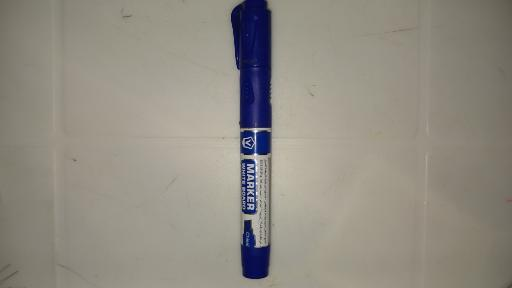Whiteboard marker: (231, 0, 273, 280)
